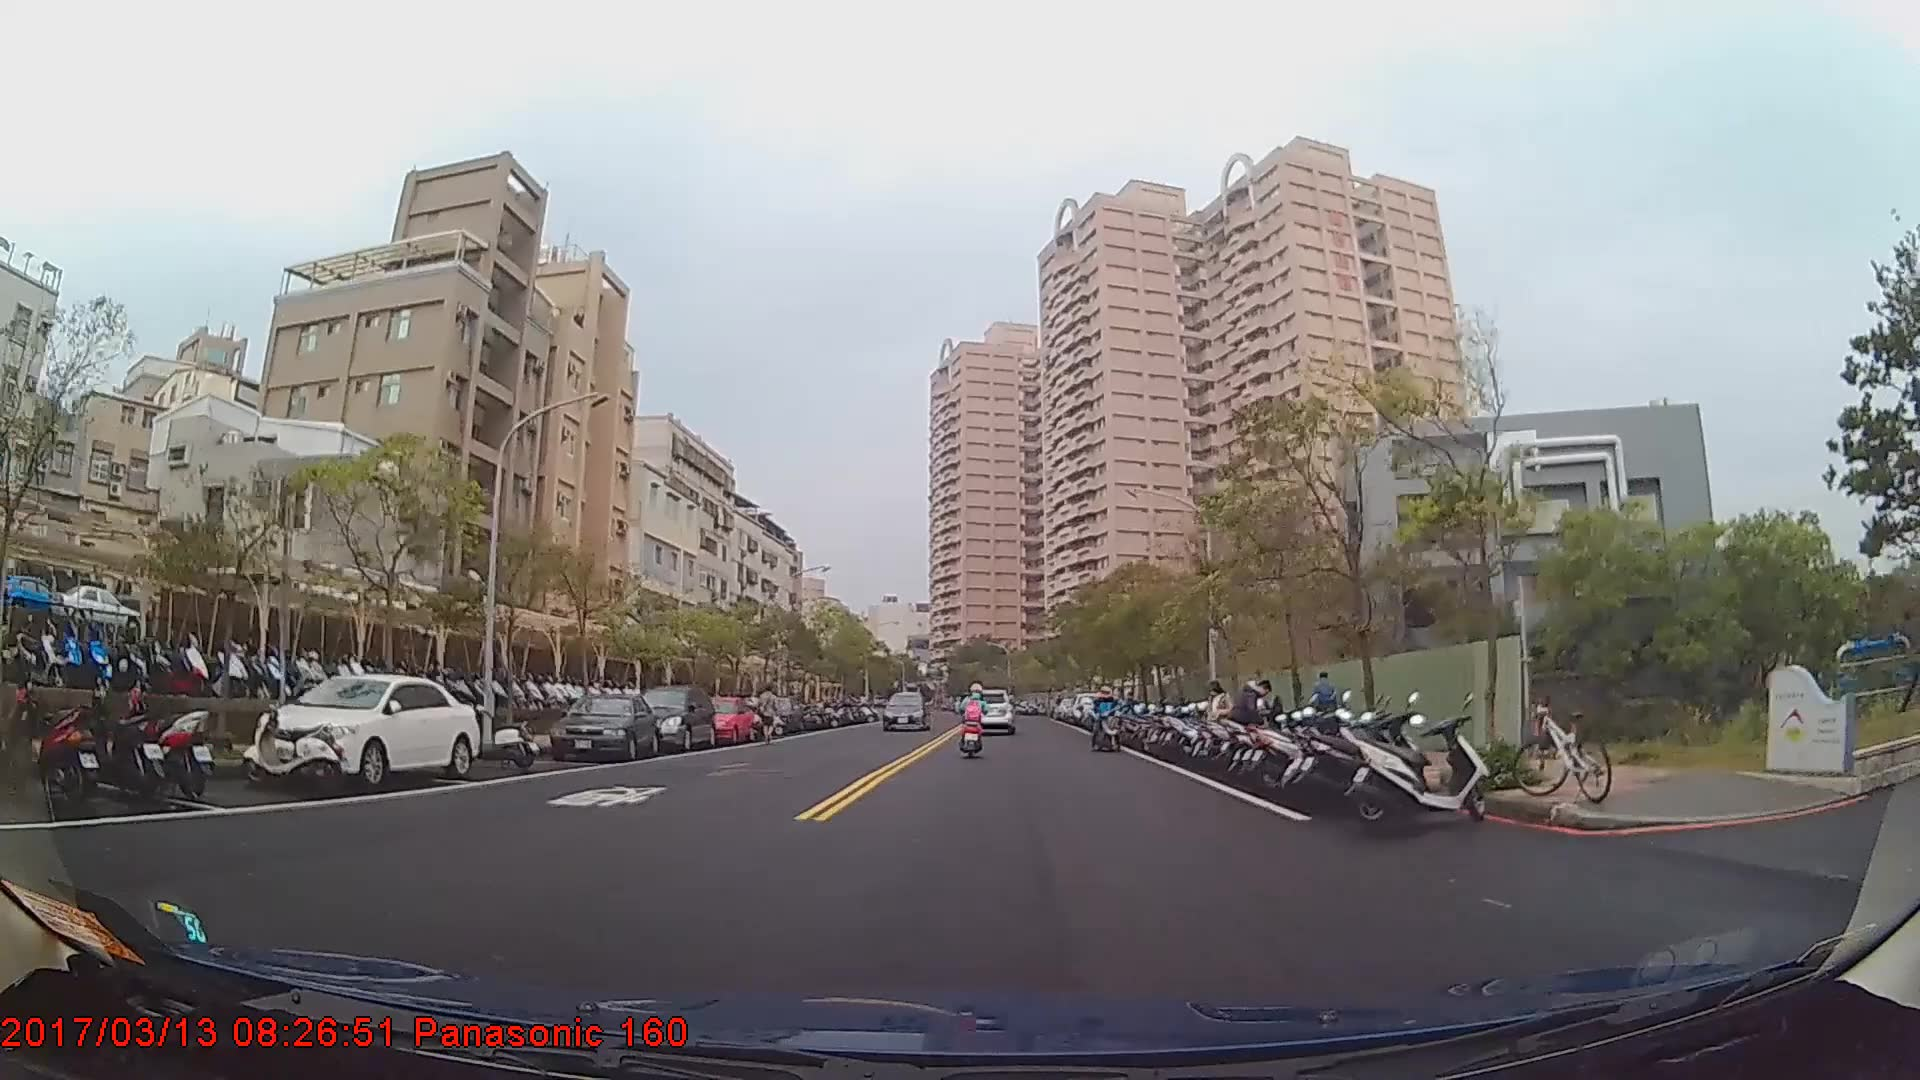pedestrian: (1229, 676, 1274, 773), (1203, 679, 1232, 769), (1308, 668, 1337, 740), (754, 682, 785, 745)
rider: (958, 683, 989, 755), (1090, 686, 1123, 753)
vehicle: (250, 670, 480, 785), (546, 690, 658, 760), (634, 682, 713, 748), (683, 694, 755, 745), (961, 688, 1014, 732), (882, 688, 928, 731)
